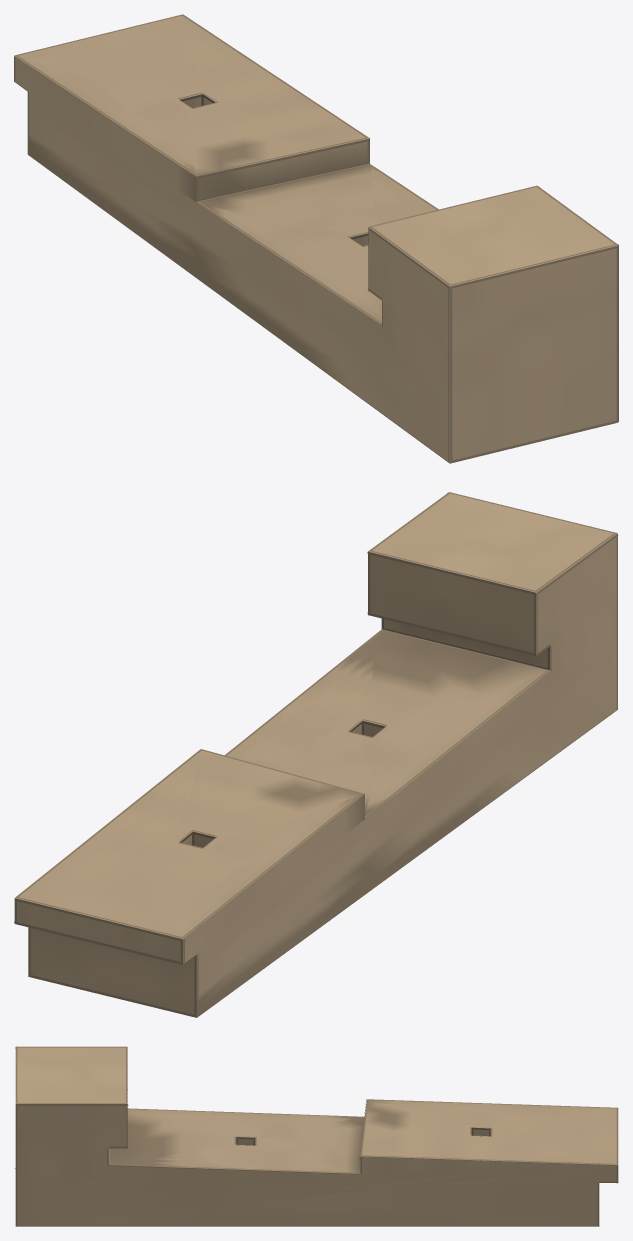
3 renders of one model, top to bottom at view 1: azimuth 30°, elevation 25°; view 2: azimuth 150°, elevation 25°; view 3: azimuth 270°, elevation 25°, orthographic. The views are drawn at different scales.
Parts seen in each view (by area): view 1: part-a; view 2: part-a; view 3: part-a.
Part boxes in pixels (bbox=[...]): part-a: bbox=[14, 14, 618, 463]; part-a: bbox=[14, 492, 618, 1017]; part-a: bbox=[14, 1046, 618, 1226].
Bounding box in the file's own units: 0.1209 × 0.1213 × 0.5391.
